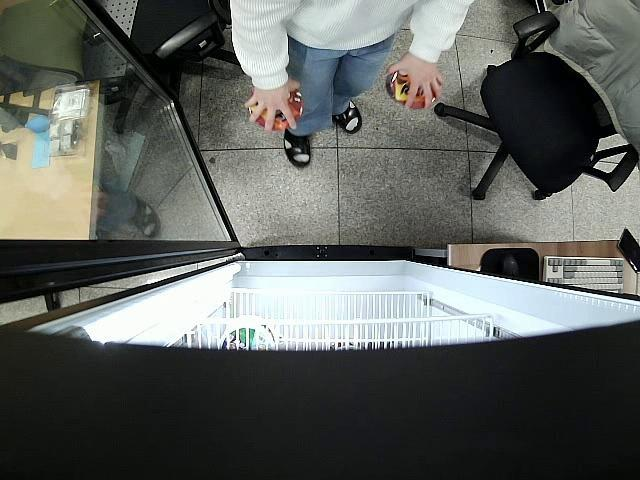05_nuguri_L: (247, 86, 303, 132), (387, 70, 438, 112)
